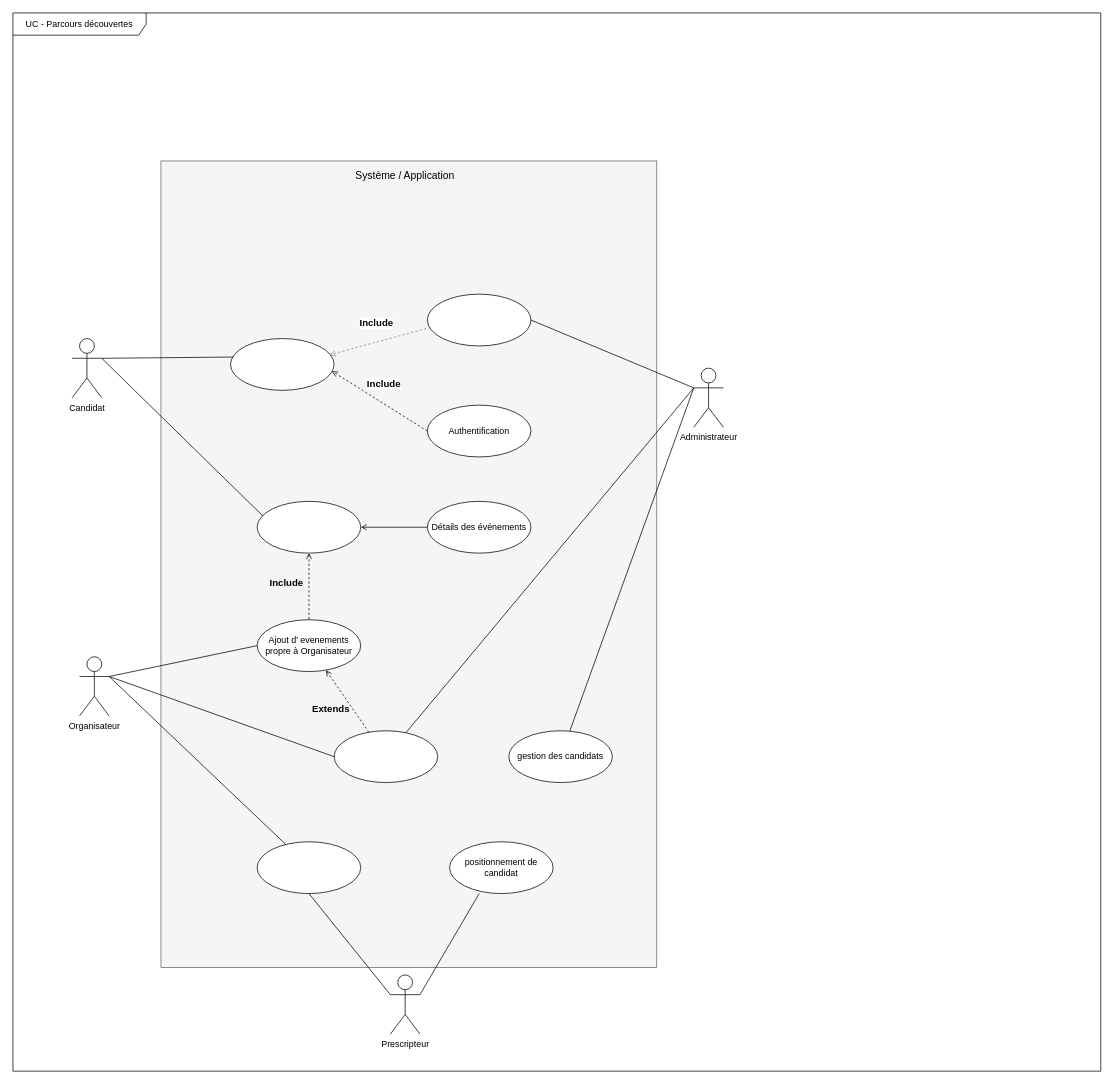
Some shapes in this 1114 by 1084 pixel diagram are drawn without their labels. The centre of each missing label's shape, as x and y in pixels:
"Consultée les événements en cours" goes at point 308,867.
"Contrôles des inscriptions" goes at point 479,319.
"Inscription" goes at point 282,364.
"Listes des Evénements" goes at point 308,527.
"Modification ou suppression d'un événement" goes at point 385,756.
